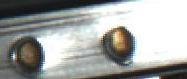joints: (99, 20, 140, 63), (7, 32, 46, 75)
